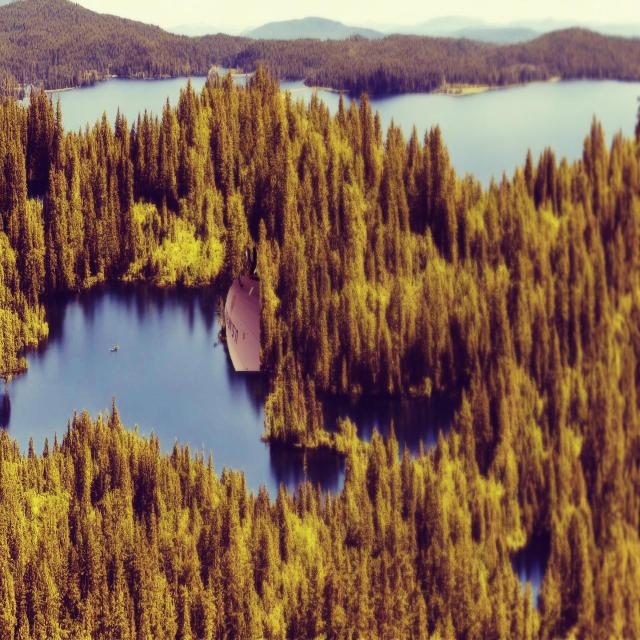airplane: (223, 245, 260, 373)
